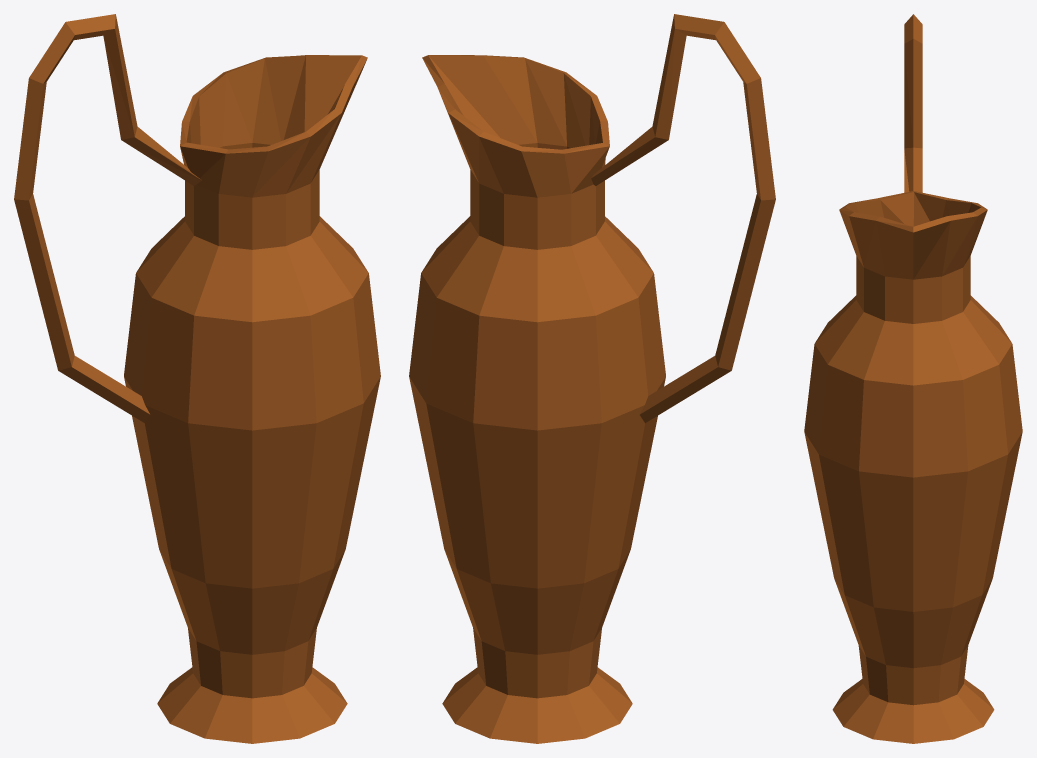
Rendered from SM_pottery_016.FBX.
3 views of the same model, side by side, from view 1: azimuth 30°, elevation 25°; view 2: azimuth 150°, elevation 25°; view 3: azimuth 270°, elevation 25° (orthographic). The views are drawn at different scales.
Parts seen in each view (by area): view 1: Object100; view 2: Object100; view 3: Object100.
Part boxes in pixels (<box>): Object100: <box>14,14,380,743</box>; Object100: <box>409,14,775,743</box>; Object100: <box>804,14,1022,743</box>.
Size of the model in its own units: 57.88 by 114 by 36.42.
